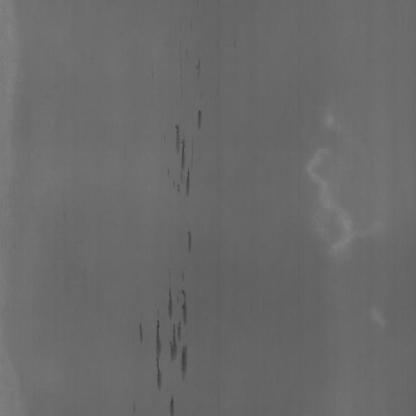oil_spot: (139, 280, 194, 408), (168, 89, 204, 195), (185, 224, 195, 257)
